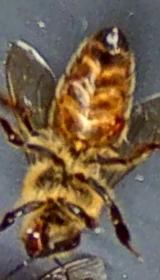varroa_mite: (104, 108, 138, 148)
